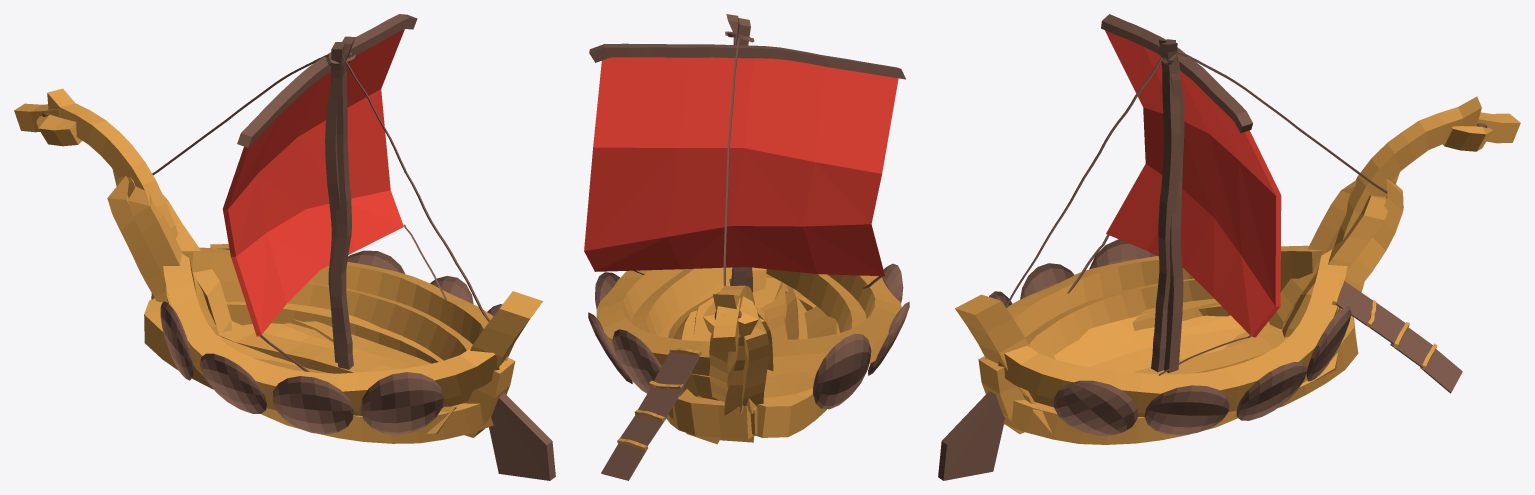
The model's file is Boat.fbx.
The picture shows the model from 3 angles, left to right: view 1: azimuth 30°, elevation 25°; view 2: azimuth 150°, elevation 25°; view 3: azimuth 270°, elevation 25°; orthographic projection. The views are drawn at different scales.
Visible parts, largest first — view 1: group1727657341; view 2: group1727657341, group1631563044; view 3: group1727657341, group1631563044.
Boxes of the visible parts, box(x1,y1,x2,y2) form: group1727657341: box(14, 14, 555, 480); group1727657341: box(584, 14, 909, 444); group1631563044: box(601, 348, 701, 480); group1727657341: box(938, 14, 1520, 480); group1631563044: box(1332, 276, 1462, 393).
Bounding box in the file's own units: 121 × 153 × 204.
